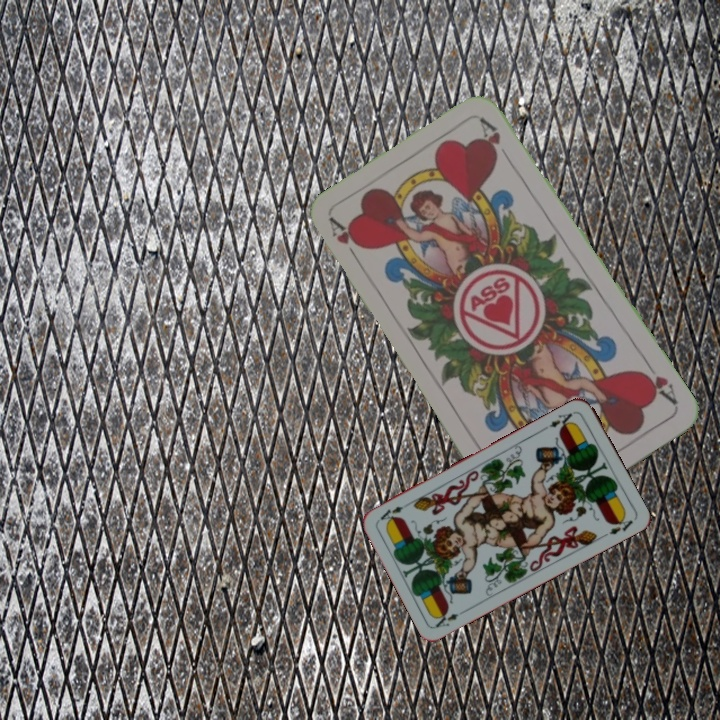EA: (431, 605, 470, 630), (540, 408, 576, 433)
HA: (636, 356, 681, 408), (325, 214, 365, 268)
